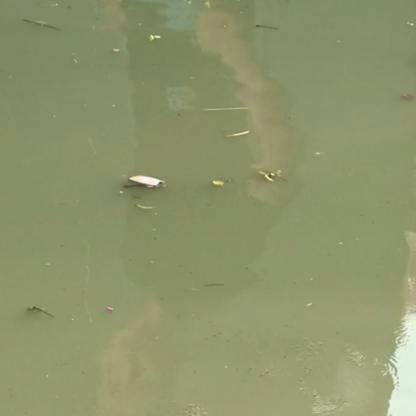Trash: (128, 171, 167, 192)
